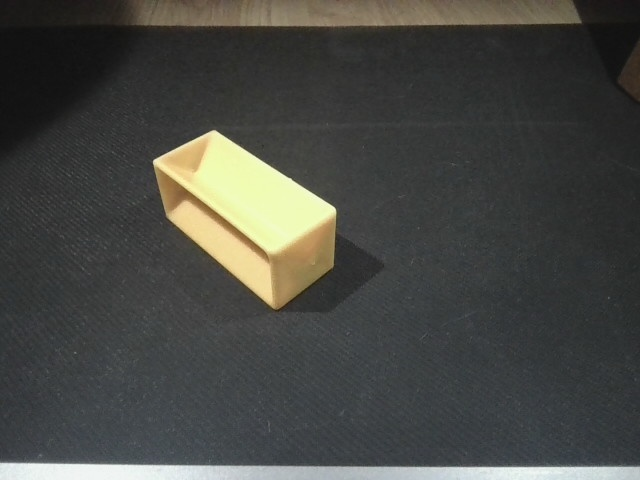YellowSample: (147, 127, 348, 312)
